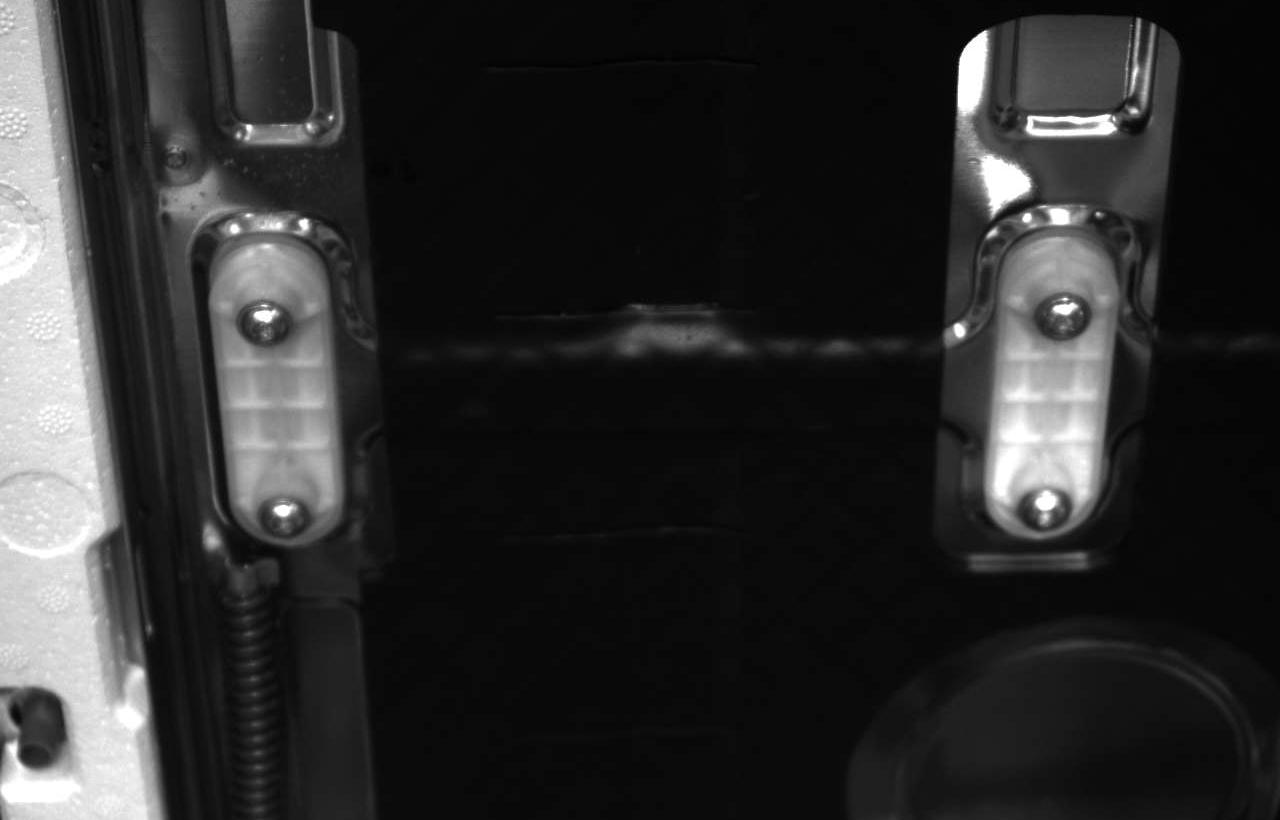vida-ok: (233, 292, 304, 359), (1014, 472, 1080, 541), (1030, 285, 1097, 352), (253, 487, 319, 545)
